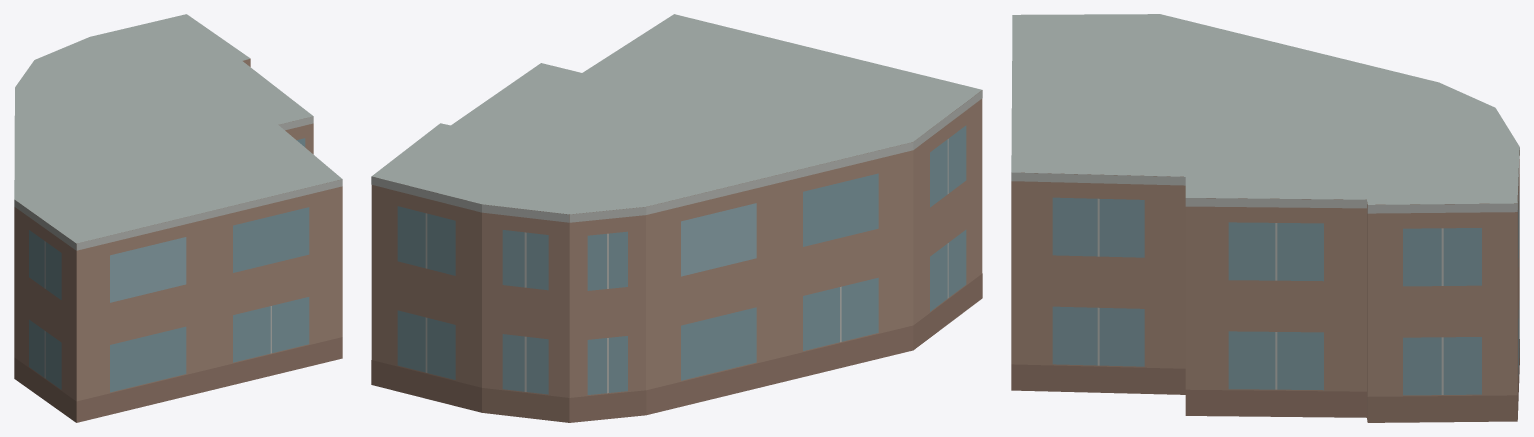
File: survey-upis-32576712.glb
3 renders of one model, left to right at view 1: azimuth 30°, elevation 25°; view 2: azimuth 150°, elevation 25°; view 3: azimuth 270°, elevation 25°, orthographic. The views are drawn at different scales.
Visible parts, largest first — view 1: survey-upis-32576712.tmp; view 2: survey-upis-32576712.tmp; view 3: survey-upis-32576712.tmp.
Boxes of the visible parts, x1,y1,x2,y2 form: survey-upis-32576712.tmp: (14,14,342,422); survey-upis-32576712.tmp: (371,14,982,422); survey-upis-32576712.tmp: (1011,14,1519,422).
Size of the model in its own units: 11.46 by 6.1 by 12.9.
